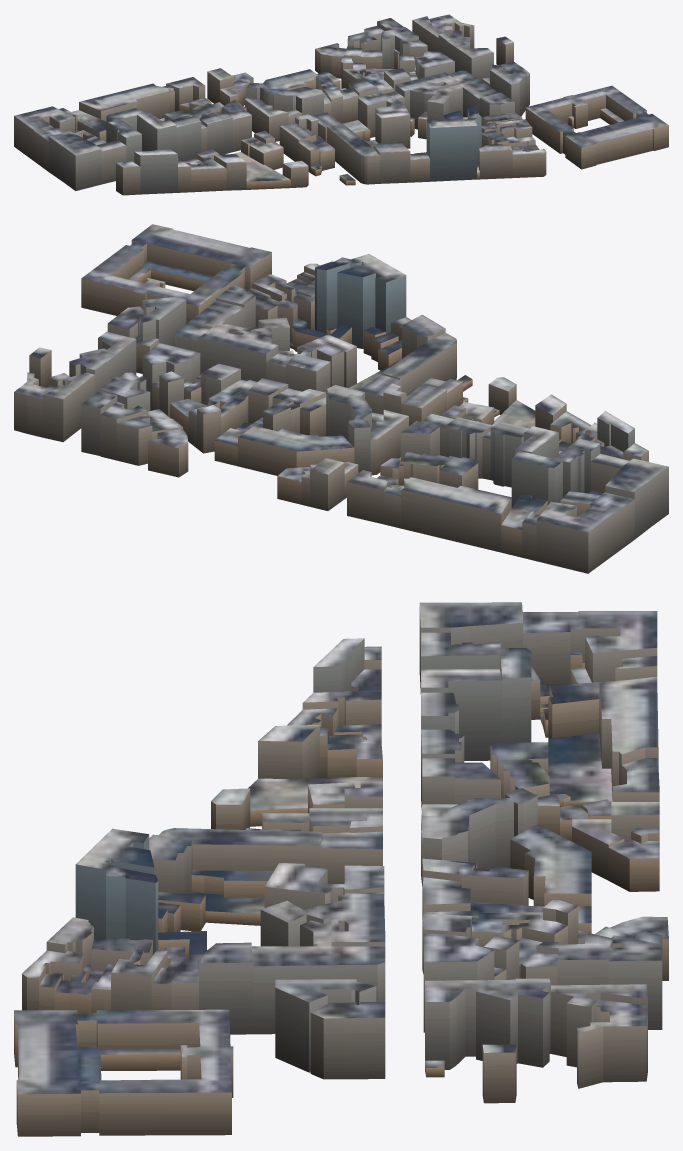
3 views of the same model, one above another, from view 1: azimuth 30°, elevation 25°; view 2: azimuth 150°, elevation 25°; view 3: azimuth 270°, elevation 25° (orthographic). The views are drawn at different scales.
Bounding box in the file's own units: 334 × 34.98 × 199.
Materials: 2 (2 with a texture image).
